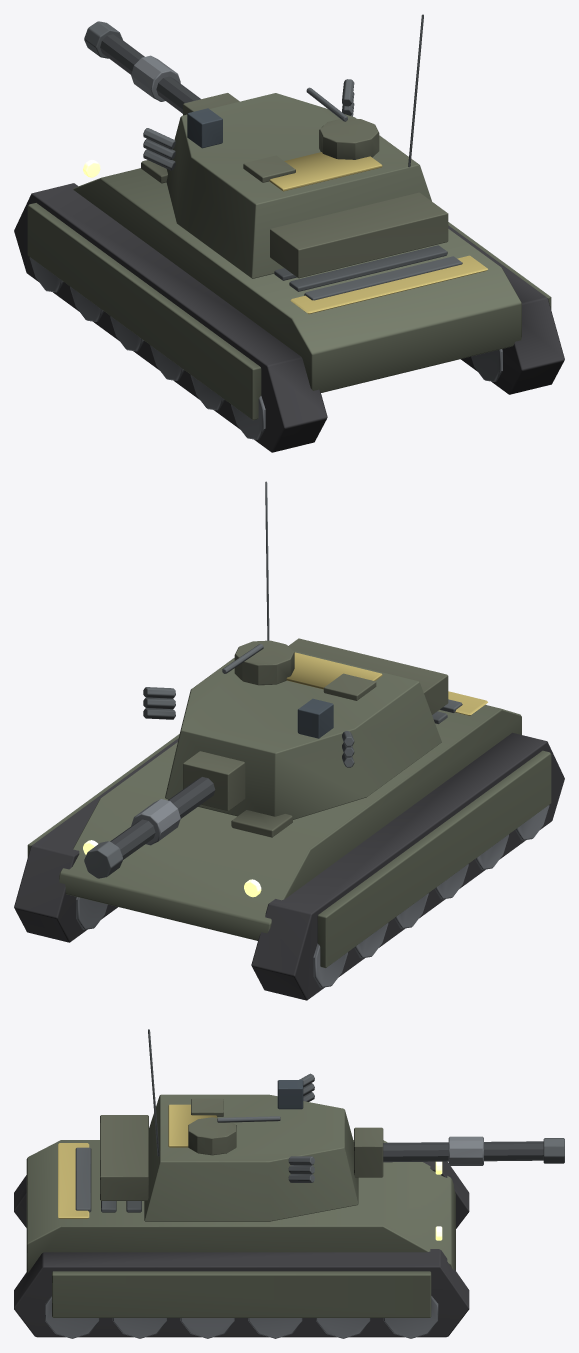
Rendered from main_battle_tank.glb.
The picture shows the model from 3 angles, top to bottom: view 1: azimuth 30°, elevation 25°; view 2: azimuth 150°, elevation 25°; view 3: azimuth 270°, elevation 25°; orthographic projection. The views are drawn at different scales.
Parts seen in each view (by area): view 1: Body, Turret; view 2: Body, Turret; view 3: Body, Turret.
Boxes of the visible parts, x1,y1,x2,y2 form: Body: [14, 160, 564, 452]; Turret: [84, 14, 448, 278]; Body: [14, 691, 564, 1000]; Turret: [84, 481, 448, 878]; Body: [14, 1140, 469, 1338]; Turret: [100, 1029, 564, 1221].
Size of the model in its own units: 2.98 by 3.2 by 5.64.
